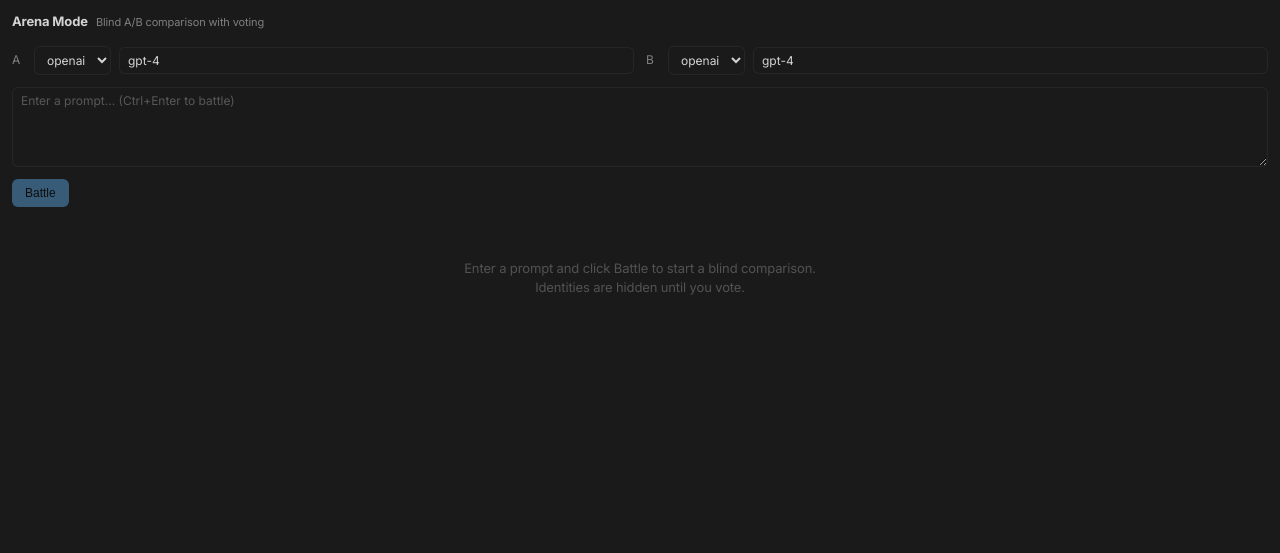
Given save_arena_vote rejects › When the user votes, Then the reveal still shows AND a save-error alert appears
Type "q" into the text box at x=640, y=126, box [12,86,1268,166]
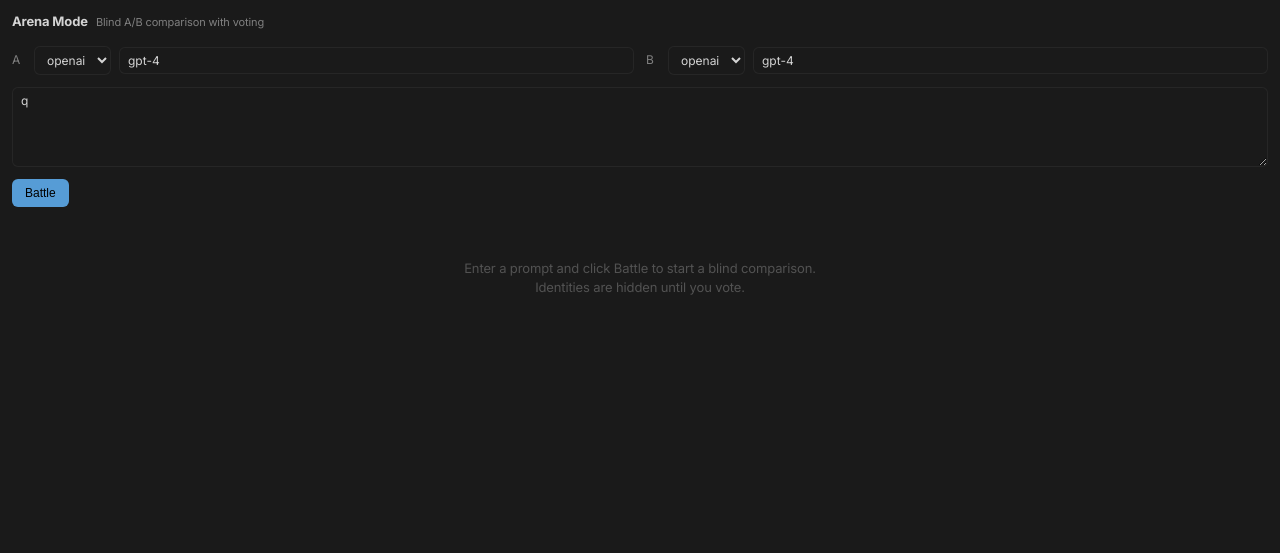
Click the button "Battle" at x=40, y=192, box [12,178,69,206]
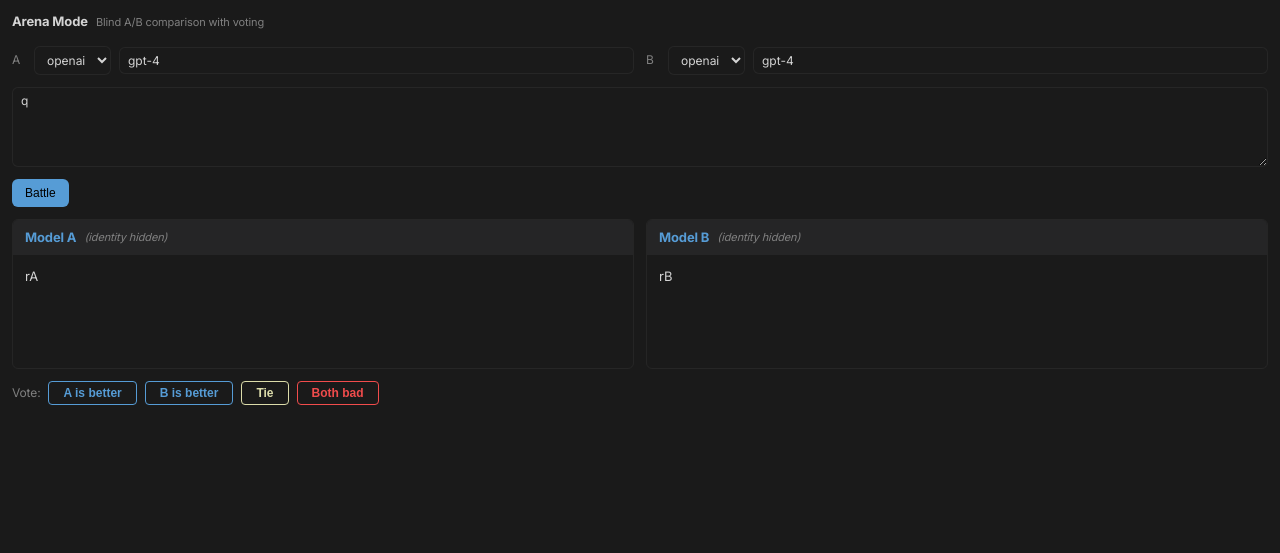
Expected: the text "Model A" is shown, [25,228,76,247]
Click the button with aria-label "Vote: A is better" at x=93, y=392, box [48,380,137,404]
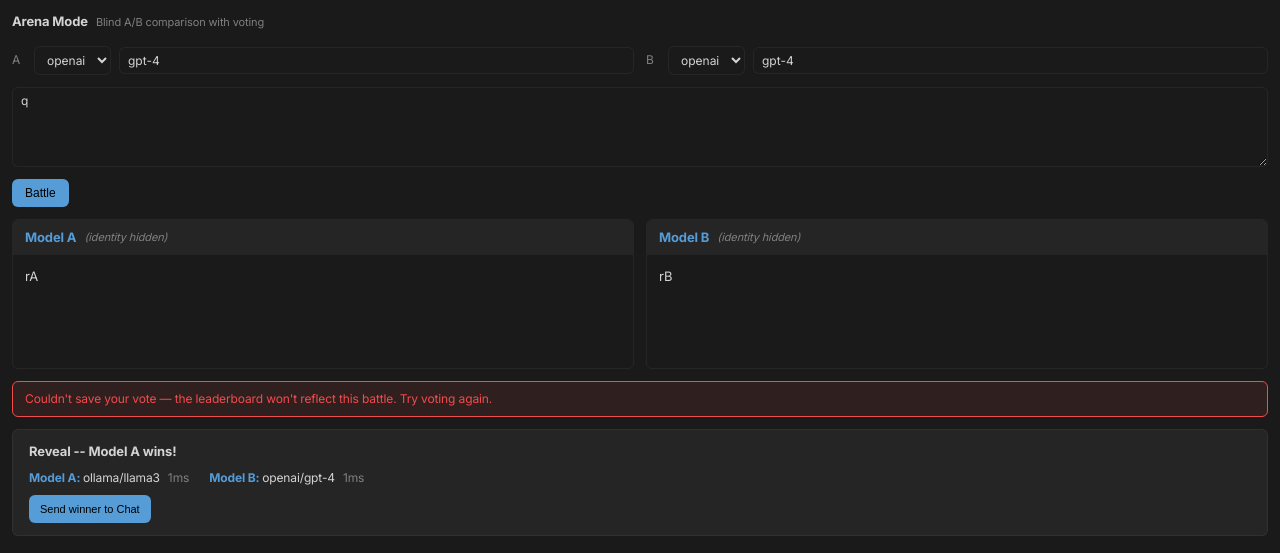
Expected: the message is shown, [12,380,1268,416]
Expected: the element named "battle reveal" is shown, [12,428,1268,536]
